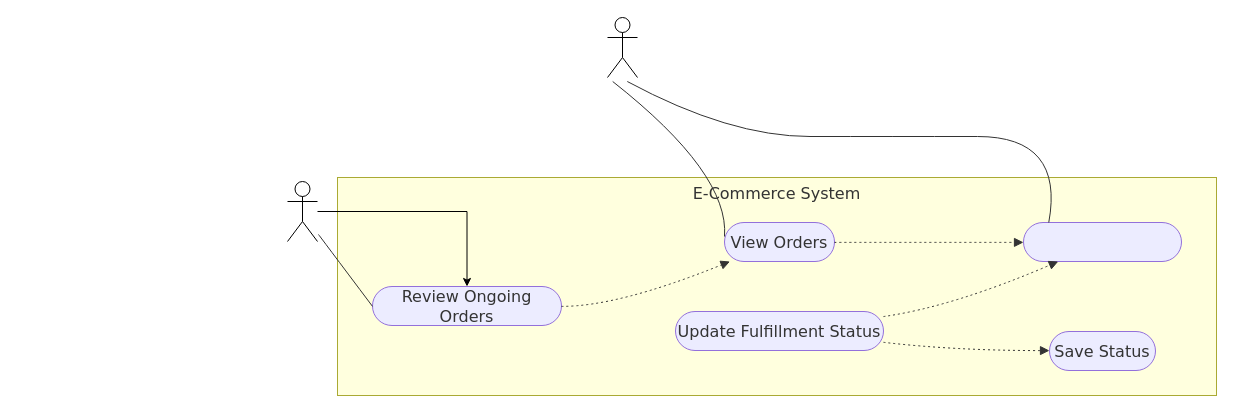
This 1234x413 diagram has some shape labels left out. Here are the shapes that lost their labels. From the top down, the box of each, then its label:
(606, 16, 638, 78): Admin
(286, 180, 318, 242): Seller
(1022, 222, 1182, 262): View Order Details
